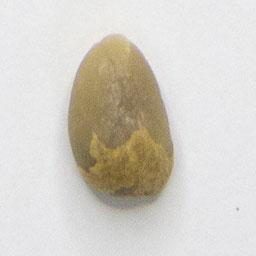longberry: (63, 26, 179, 202)
